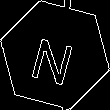N_N: (29, 25, 81, 85)
